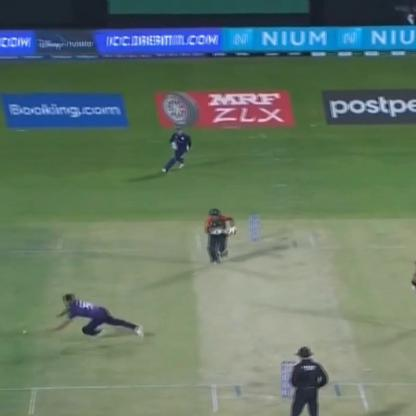ball: (19, 329, 31, 340)
pitch: (175, 220, 388, 412)
